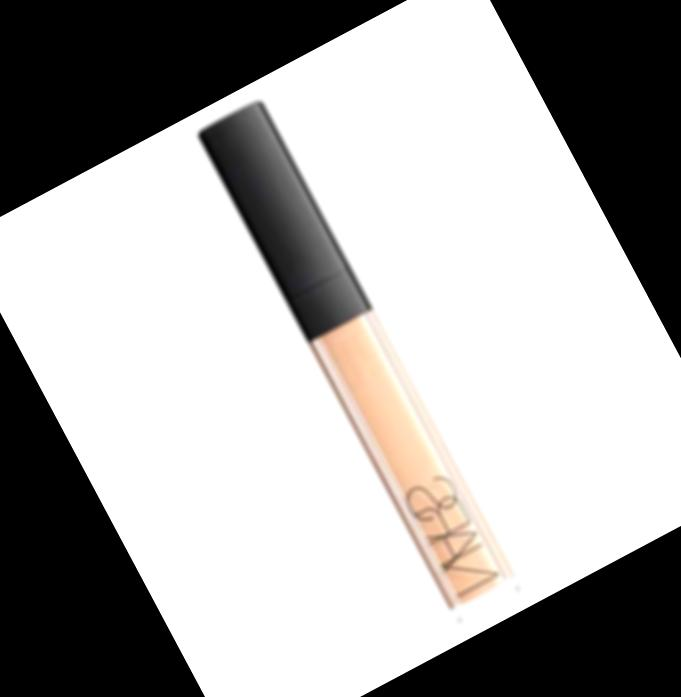cosmetic: (193, 99, 523, 628)
